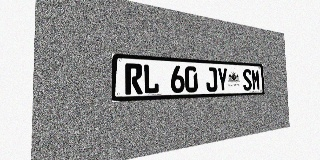0: (185, 66, 198, 93)
6: (170, 65, 185, 93)
J: (206, 67, 217, 92)
L: (143, 64, 159, 94)
M: (251, 69, 260, 90)
R: (125, 63, 143, 95)
S: (242, 69, 252, 91)
Y: (217, 67, 228, 92)
